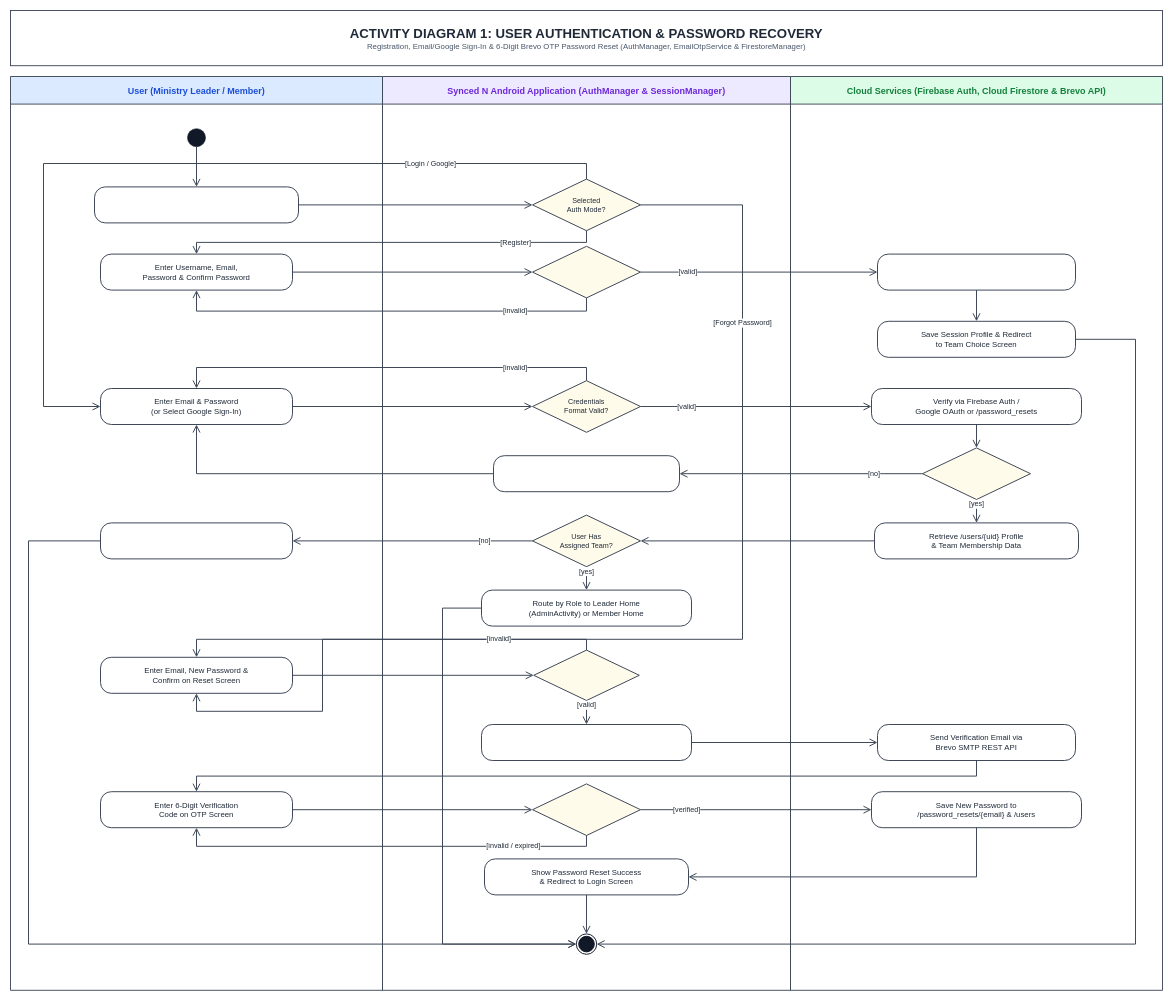
The diagram is 1174 pixels wide and 1001 high, and some of its shapes have lost their labels. Here are the shapes that lost their labels. From the top down, the centre of each, then its label:
(196,204): Launch App & Select Auth Action (Login, Register, or Forgot Password)
(586,272): Registration Input Valid?
(976,271): Create Firebase Auth User & Save /users/{uid} Profile
(586,473): Display 'Invalid credentials' Toast & Field Error
(976,473): Authentication Succeeded?
(196,540): Navigate to Team Choice Screen (Create or Join Team)
(586,675): Reset Fields Valid?
(586,742): Generate 6-Digit OTP (10-Min Expiry in EmailOtpService)
(586,809): OTP Valid & Not Expired?
